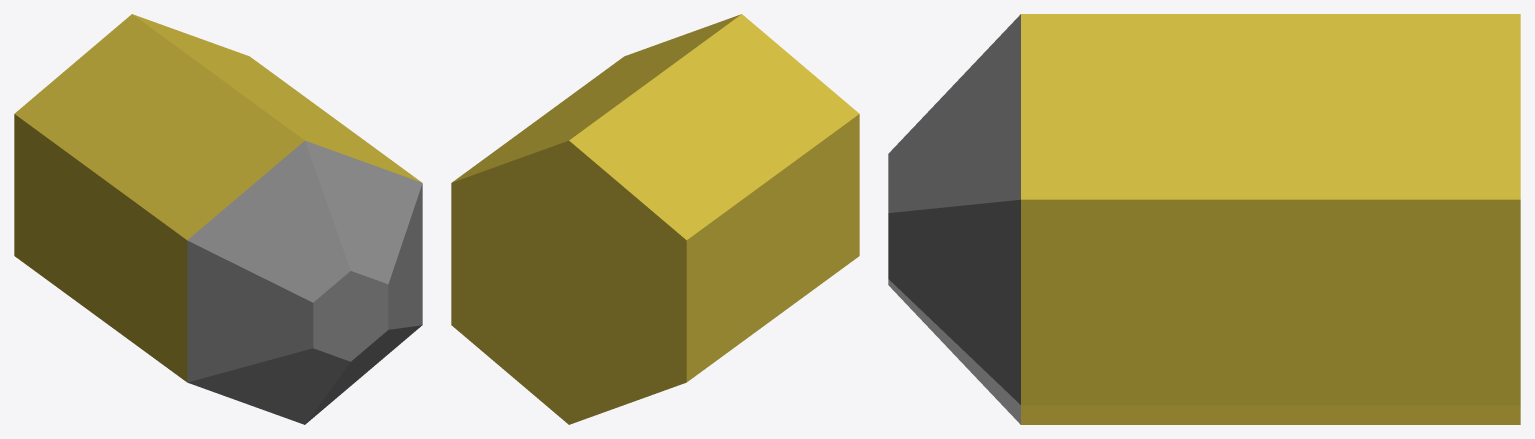
Rendered from Bullet.fbx.
3 views of the same model, side by side, from view 1: azimuth 30°, elevation 25°; view 2: azimuth 150°, elevation 25°; view 3: azimuth 270°, elevation 25° (orthographic). The views are drawn at different scales.
Parts seen in each view (by area): view 1: Cylinder; view 2: Cylinder; view 3: Cylinder.
Boxes of the visible parts, box(x1,y1,x2,y2) form: Cylinder: box(14, 14, 422, 424); Cylinder: box(451, 14, 859, 424); Cylinder: box(888, 14, 1520, 424).
Size of the model in its own units: 173 by 200 by 279.
